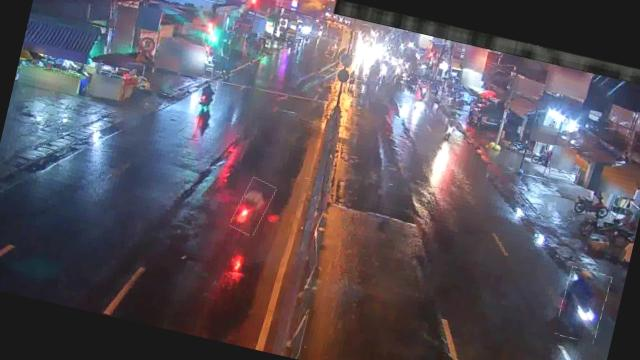Bike: (554, 266, 611, 344), (230, 176, 274, 238), (573, 191, 615, 222), (195, 78, 218, 110), (442, 118, 459, 142), (417, 82, 430, 100)
